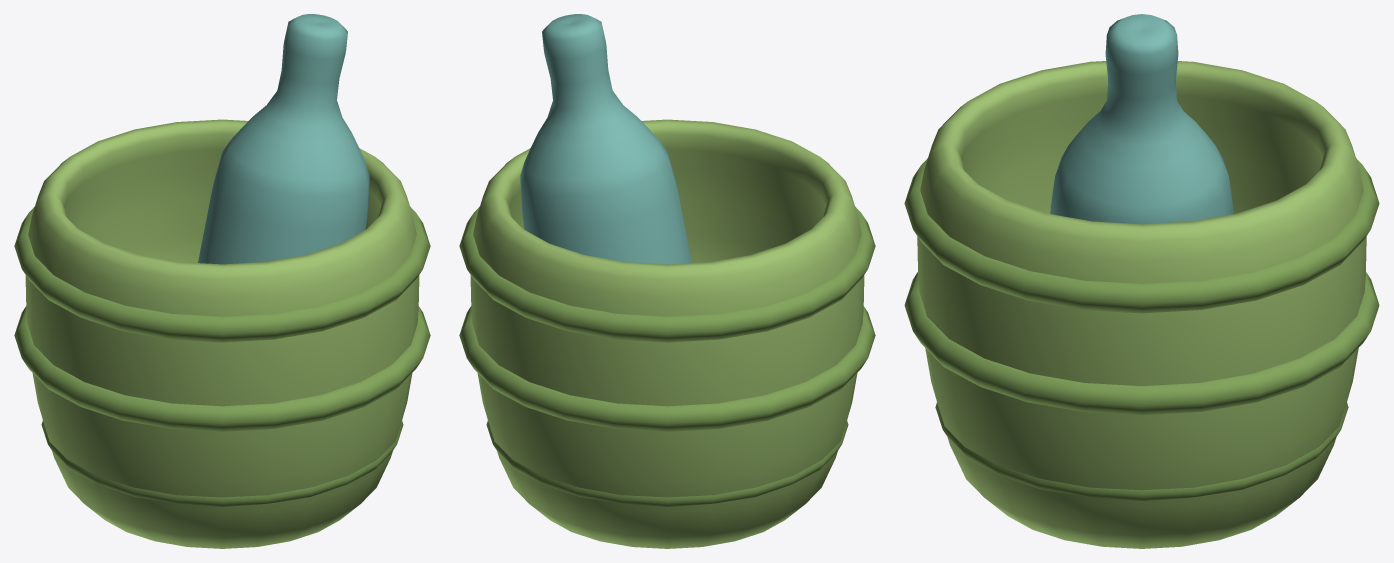
Rendered from bamboo_basket.glb.
3 views of the same model, side by side, from view 1: azimuth 30°, elevation 25°; view 2: azimuth 150°, elevation 25°; view 3: azimuth 270°, elevation 25° (orthographic). The views are drawn at different scales.
Parts seen in each view (by area): view 1: bamboo_basket_mesh; view 2: bamboo_basket_mesh; view 3: bamboo_basket_mesh.
Part boxes in pixels (x1,y1,x2,y2): bamboo_basket_mesh: (14,14,430,548); bamboo_basket_mesh: (459,14,875,548); bamboo_basket_mesh: (904,14,1379,548).
Bounding box in the file's own units: 0.338 × 0.4087 × 0.338.
